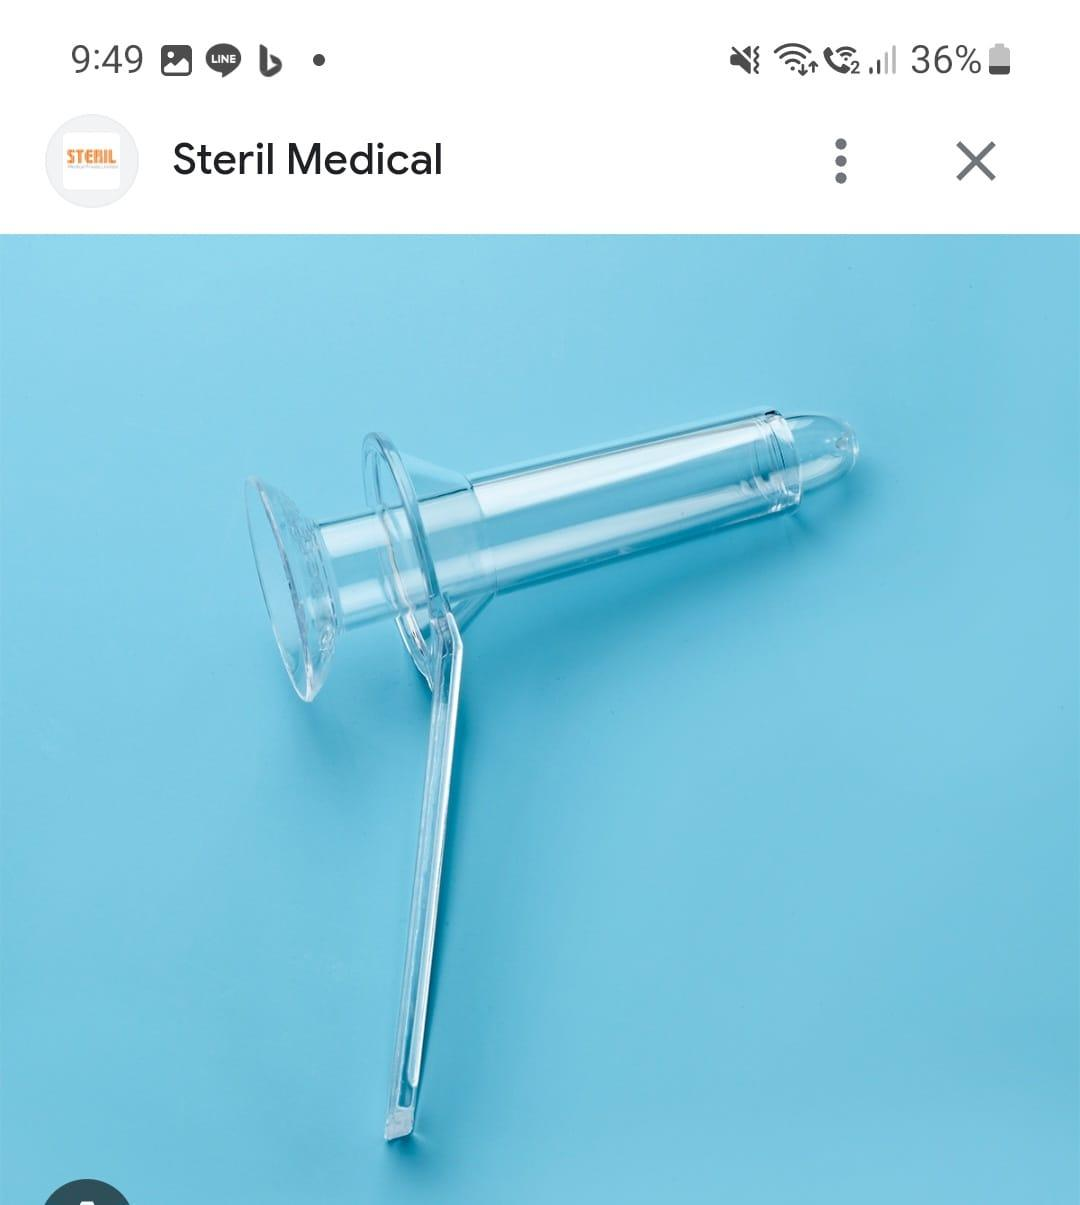Protoscope: (192, 375, 868, 1161)
